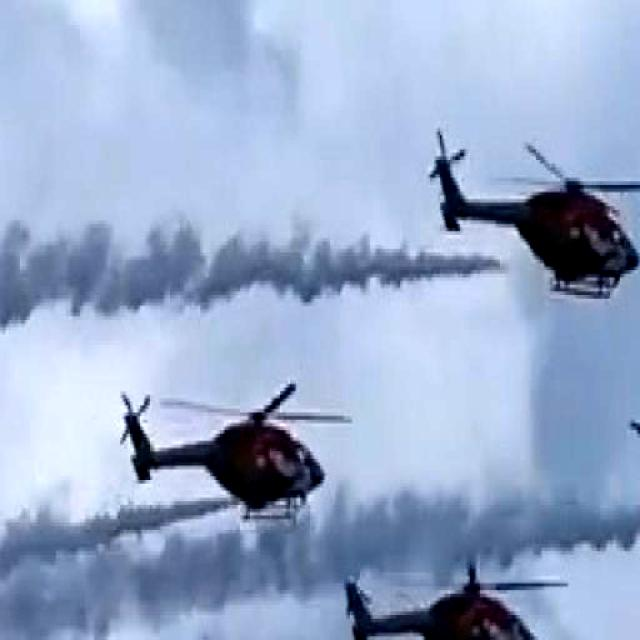drone: (105, 330, 360, 540), (415, 110, 640, 326), (342, 511, 574, 640)
